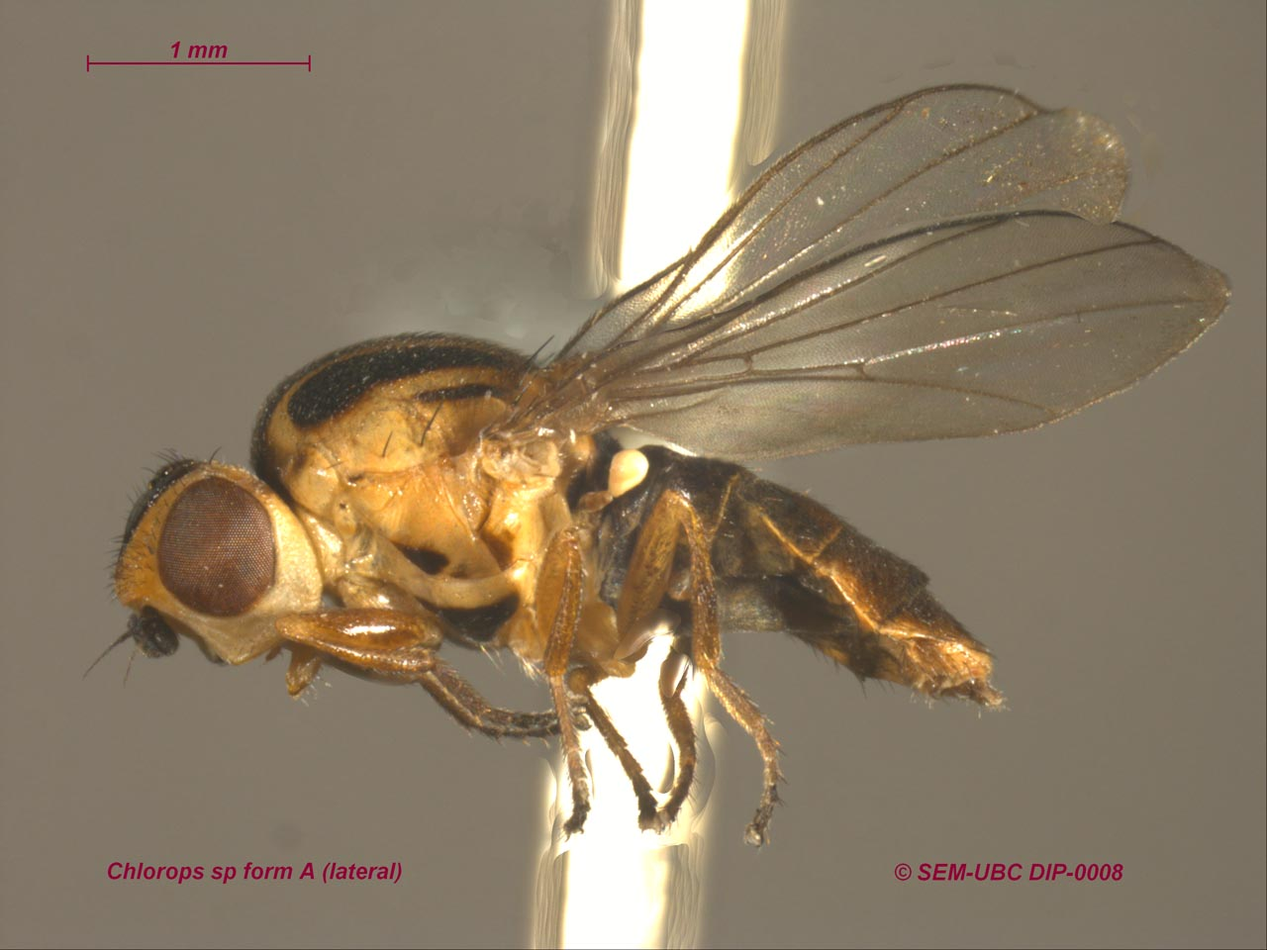Chloropidae: (79, 79, 1234, 846)
